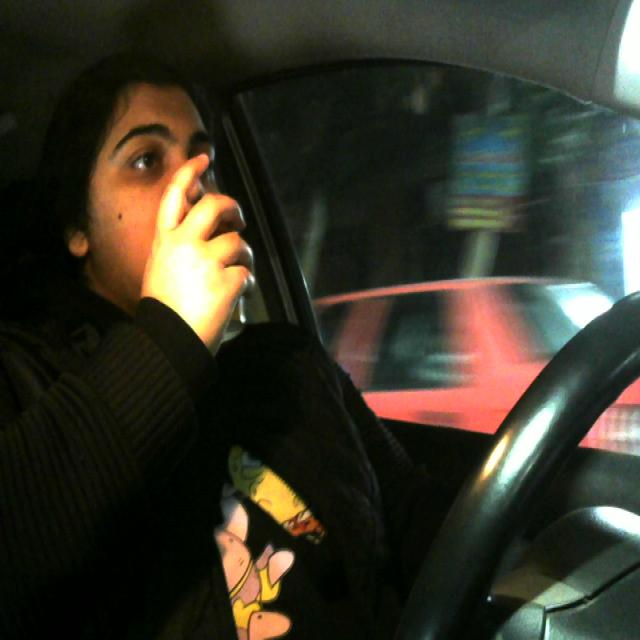drinking: (156, 183, 255, 340)
